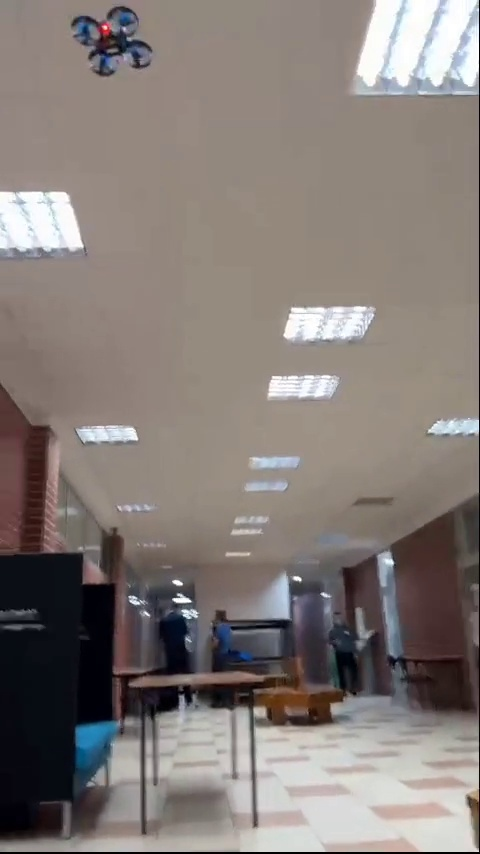drone: (68, 9, 152, 72)
no vest: (159, 593, 201, 709), (330, 605, 363, 692), (212, 613, 237, 665)
